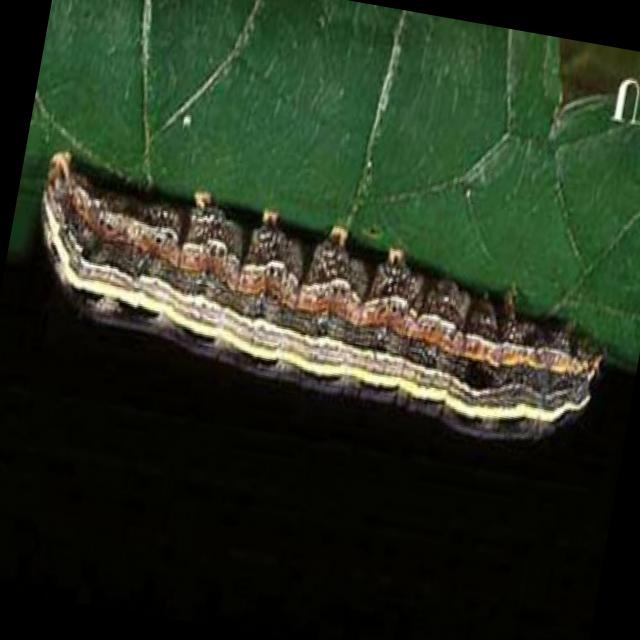armyworm: (6, 151, 627, 466)
